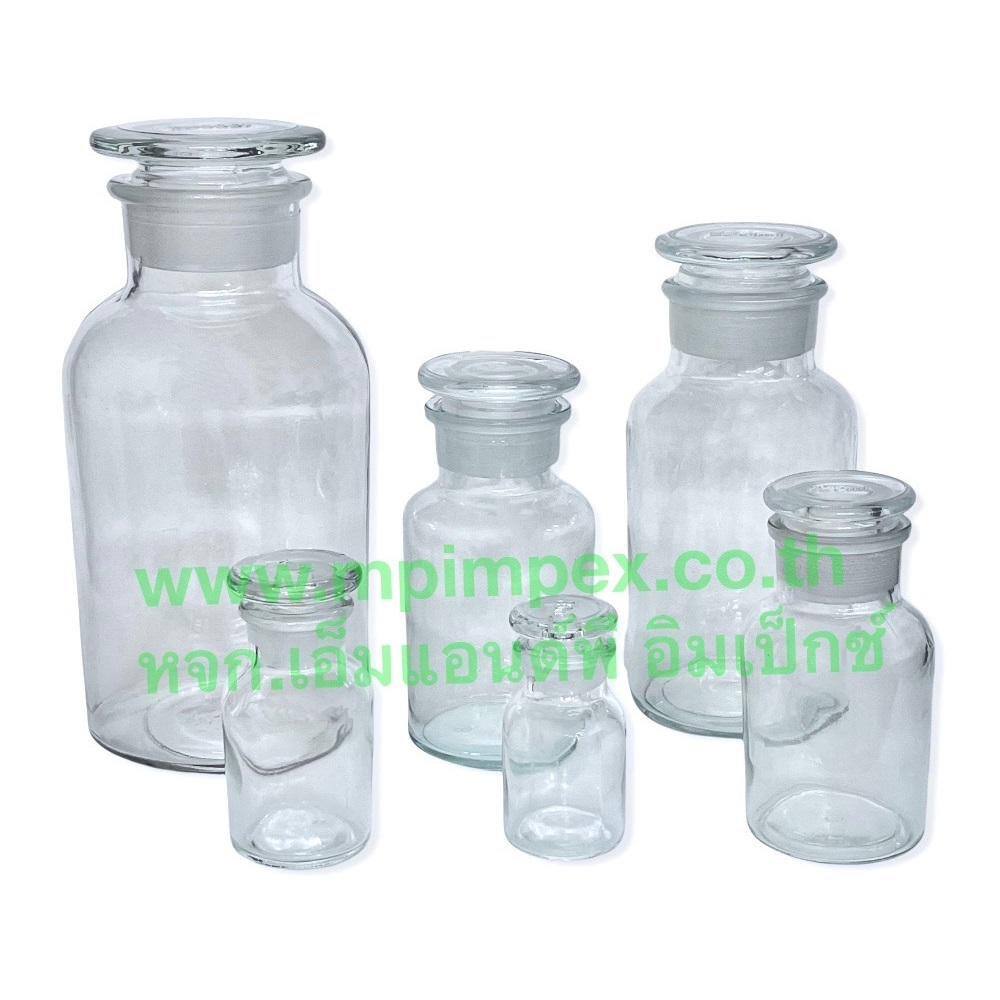glass_bottle: (60, 95, 951, 888)
